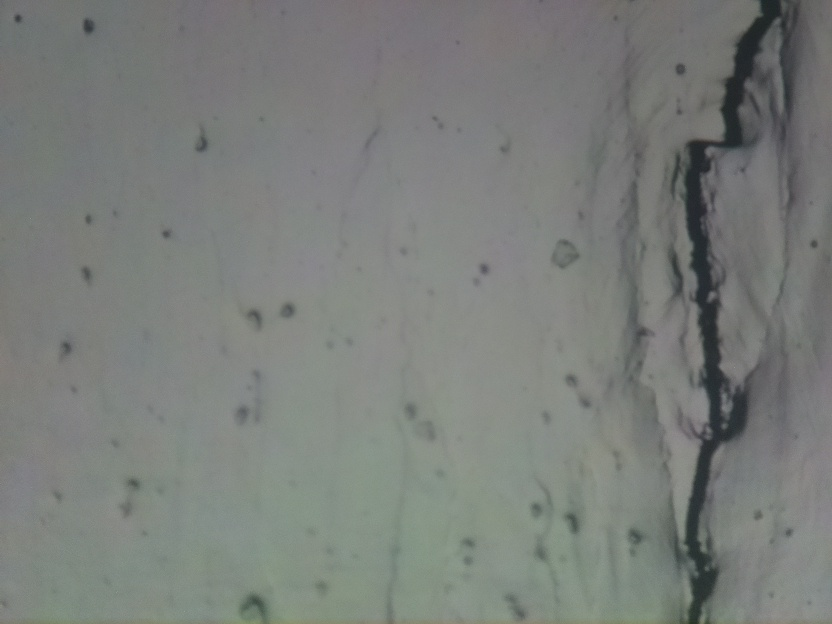crack: (675, 0, 777, 624)
